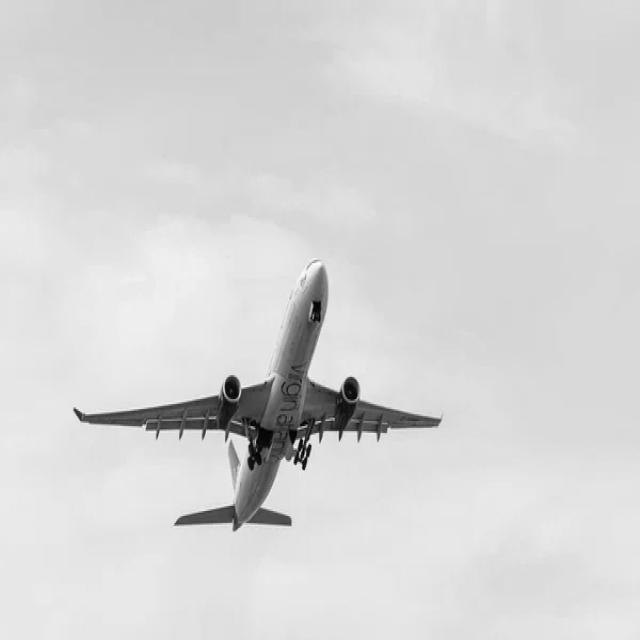Aircraft: (62, 241, 445, 546)
